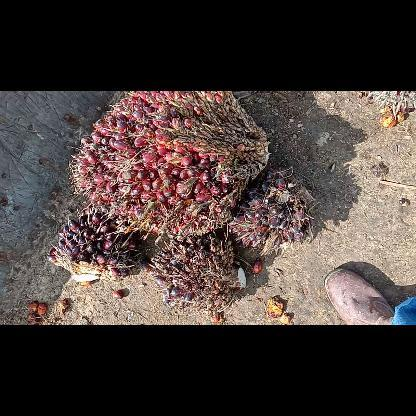TBS abnormal: (230, 168, 314, 254), (148, 235, 244, 309), (48, 210, 138, 284)
TBS masak: (69, 91, 267, 233)
